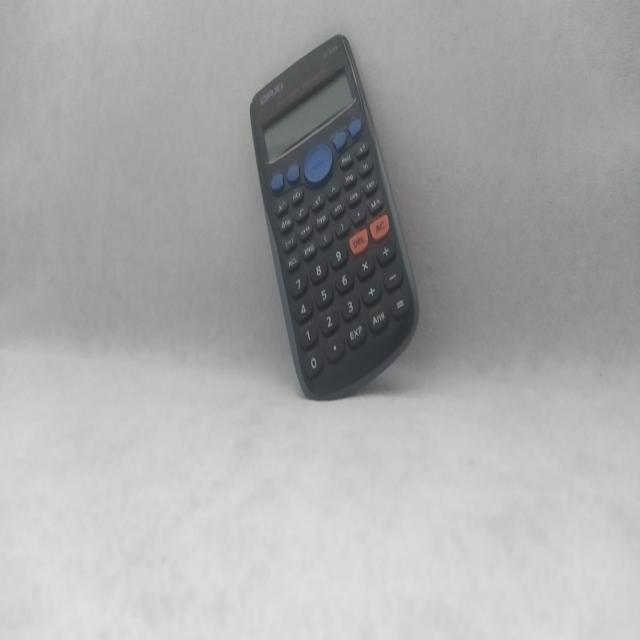Calculator: (251, 33, 421, 406)
